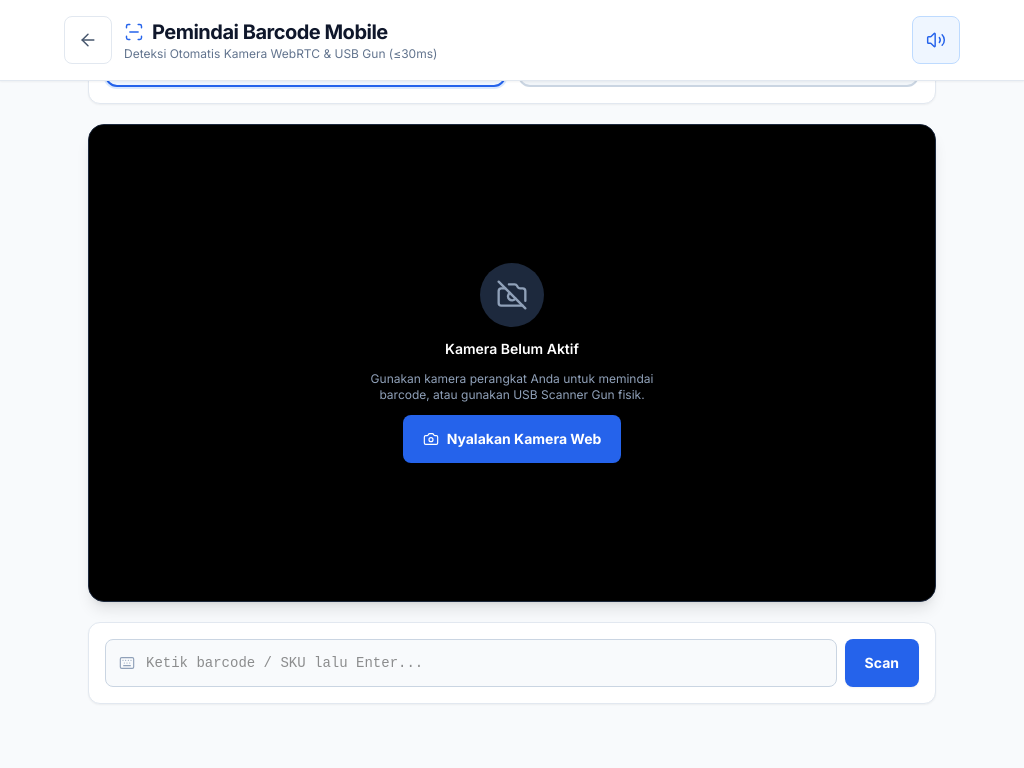
Test case: Scanner PUTAWAY mode uses real backend › rack then product posts putaway confirm with staging line
The image size is (1024, 768).
(page scrolled)
Type "RAK-A-01" into the field with placeholder "Ketik barcode / SKU lalu Enter...".
click(471, 663); type("RAK-A-01")  # box x1=105 y1=639 x2=837 y2=687
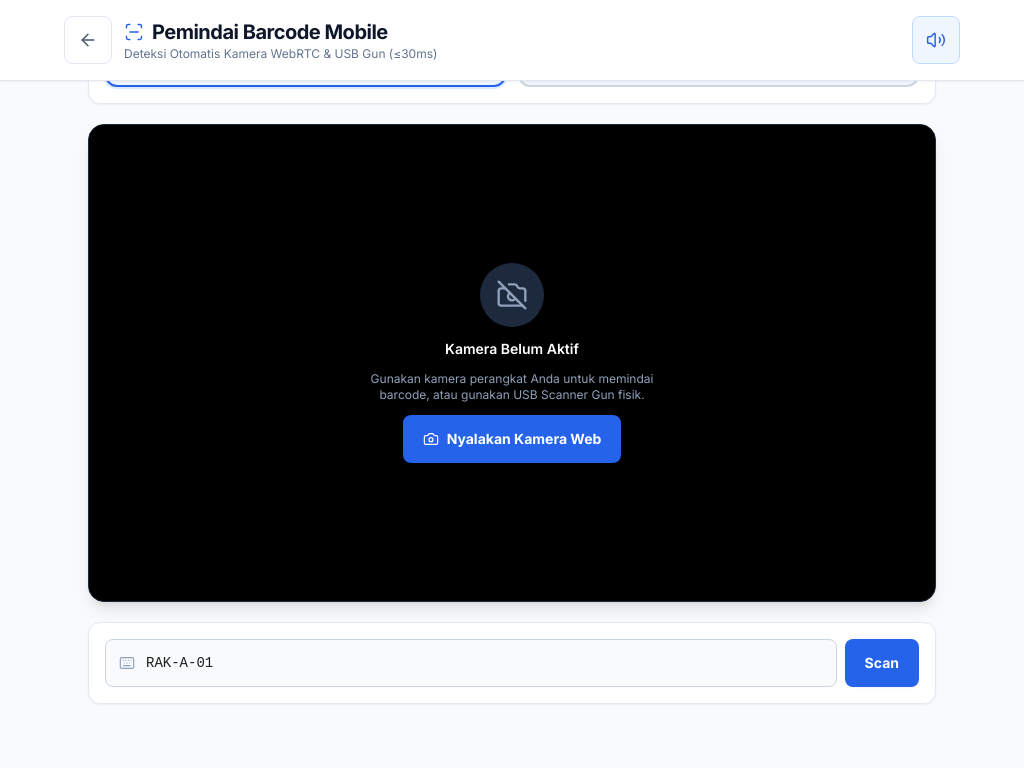
Submit the form with placeholder "Ketik barcode", box x1=105 y1=639 x2=919 y2=687
(page scrolled)
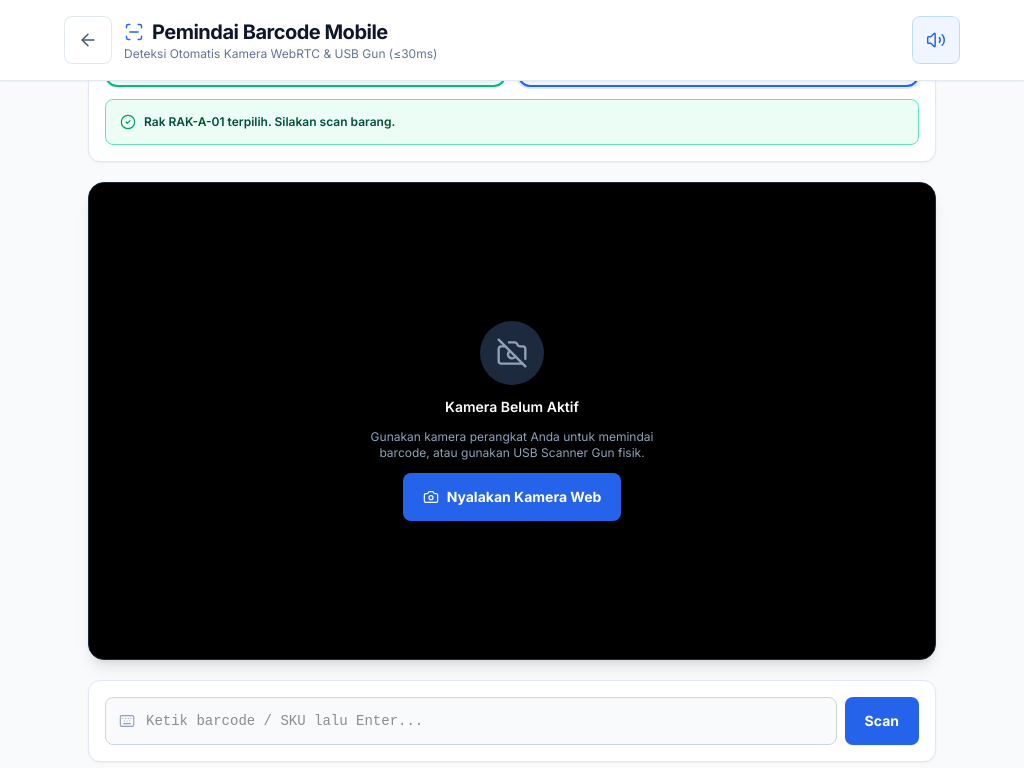
Type "8991234" into the field with placeholder "Ketik barcode / SKU lalu Enter...".
click(471, 721); type("8991234")  # box x1=105 y1=697 x2=837 y2=745
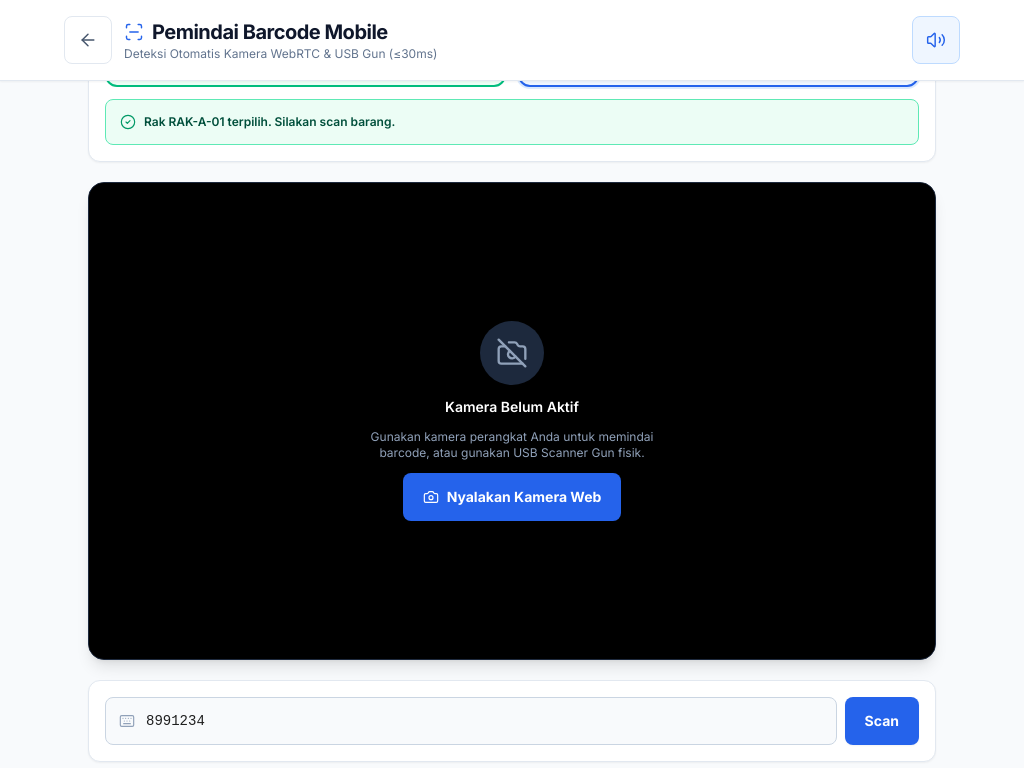
Submit the form with placeholder "Ketik barcode", box x1=105 y1=697 x2=919 y2=745
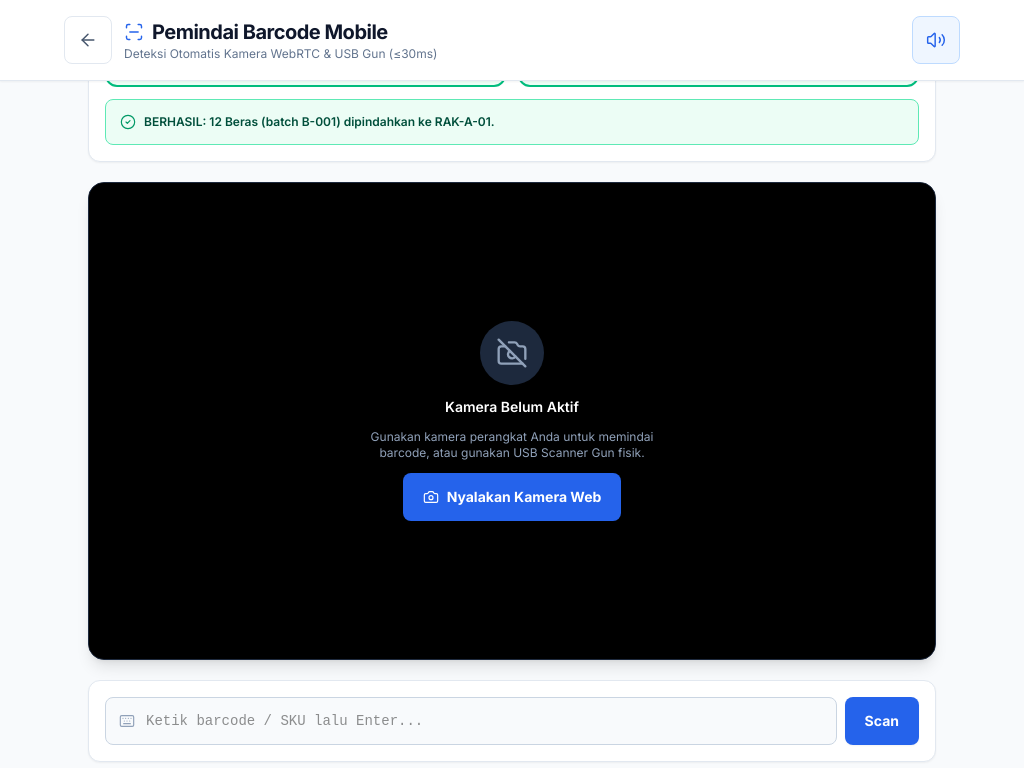
Result: the text "BERHASIL: 12 Beras (batch B-001) dipindahkan ke RAK-A-01." is shown at x1=144 y1=114 x2=495 y2=130
